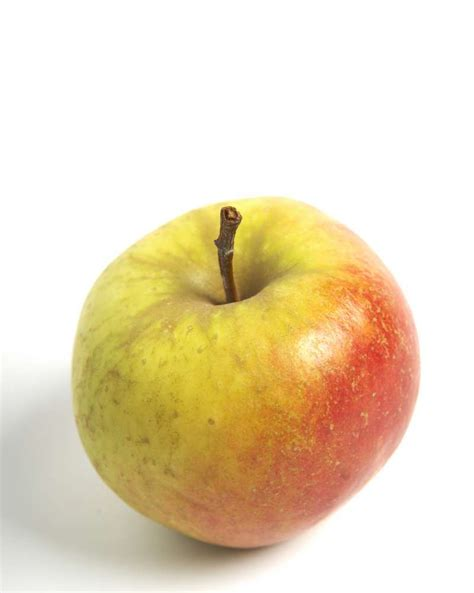apple: (66, 185, 423, 554)
